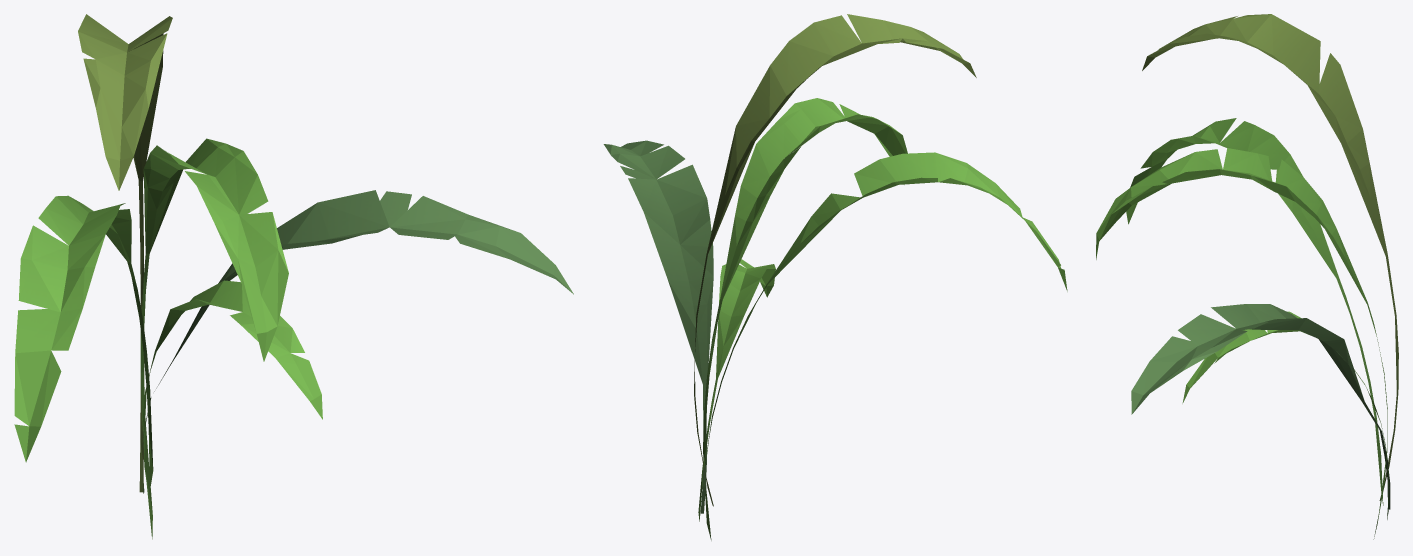
File: Jungle_ThinFern_F.fbx
The picture shows the model from 3 angles, left to right: view 1: azimuth 30°, elevation 25°; view 2: azimuth 150°, elevation 25°; view 3: azimuth 270°, elevation 25°; orthographic projection. The views are drawn at different scales.
Parts seen in each view (by area): view 1: Jungle_ThinFern_F; view 2: Jungle_ThinFern_F; view 3: Jungle_ThinFern_F.
Boxes of the visible parts, <box> form: Jungle_ThinFern_F: <box>14,14,573,539</box>; Jungle_ThinFern_F: <box>603,14,1067,540</box>; Jungle_ThinFern_F: <box>1096,14,1398,539</box>.
Bounding box in the file's own units: 3.64 × 3.72 × 2.14.
